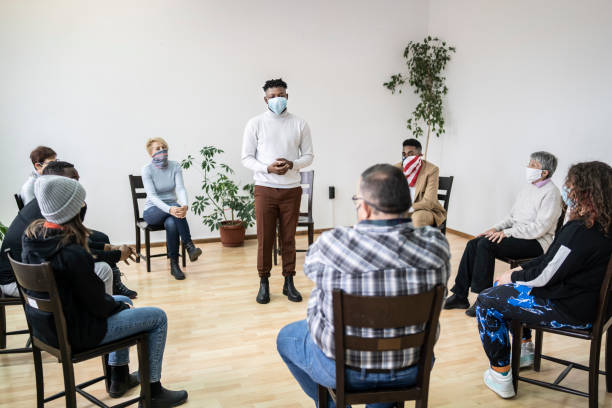with mask: (561, 175, 587, 211), (144, 141, 173, 168), (262, 88, 291, 115), (398, 141, 427, 168), (522, 155, 551, 182)
